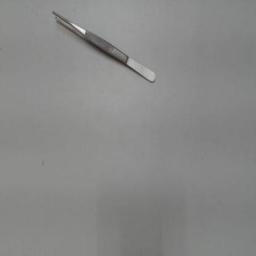Gillies Toothed Dissector: (48, 4, 162, 92)
